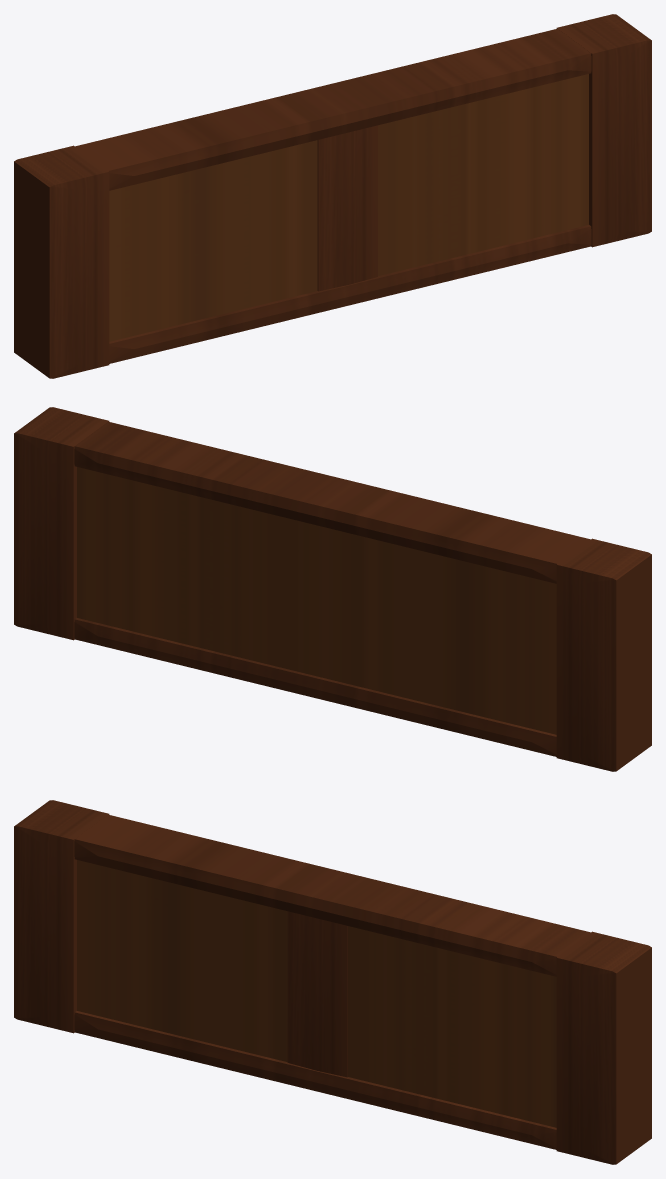
The model's file is Half_Half_Wall_Var2_Wood.fbx.
3 renders of one model, top to bottom at view 1: azimuth 30°, elevation 25°; view 2: azimuth 150°, elevation 25°; view 3: azimuth 330°, elevation 25°, orthographic.
Visible parts, largest first — view 1: Half_Half_Wall_Var2_Wood; view 2: Half_Half_Wall_Var2_Wood; view 3: Half_Half_Wall_Var2_Wood.
Part boxes in pixels (x1,y1,x2,y2): Half_Half_Wall_Var2_Wood: [14, 14, 651, 378]; Half_Half_Wall_Var2_Wood: [14, 407, 651, 771]; Half_Half_Wall_Var2_Wood: [14, 800, 651, 1164].
Bounding box in the file's own units: 212 × 64.99 × 23.4.
